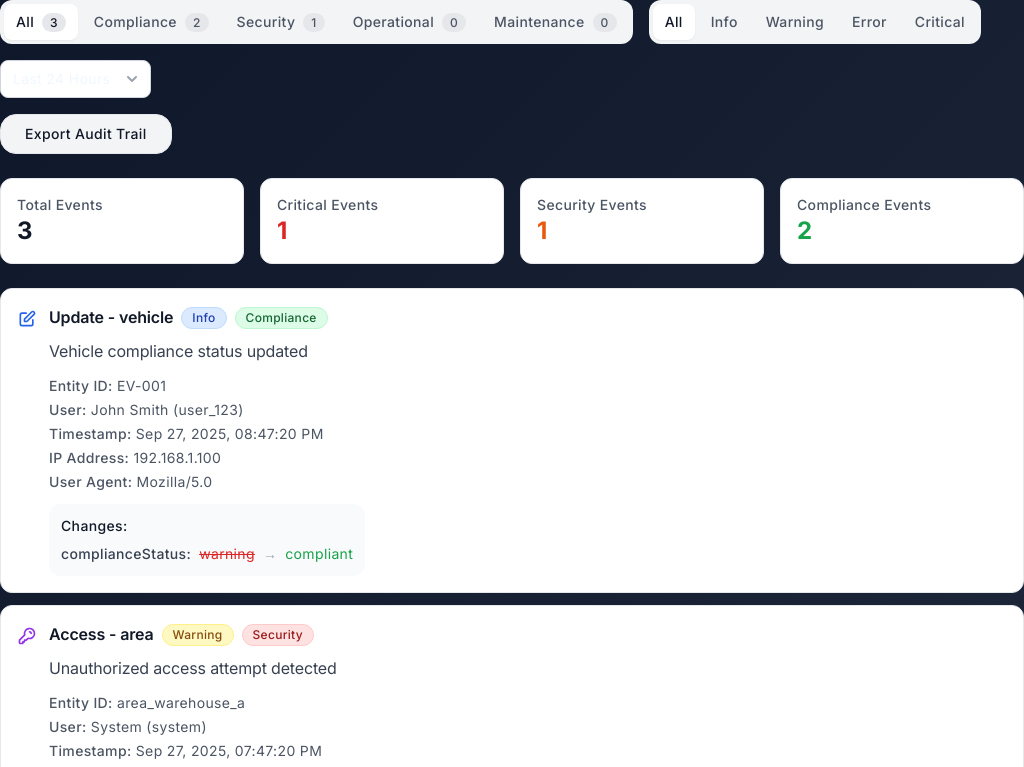
Test: AuditTrailViewer › filters audit trails by category
Note: Click on compliance filter
Click the button named "compliance 2": (151,22) left=82, top=4, right=221, bottom=40
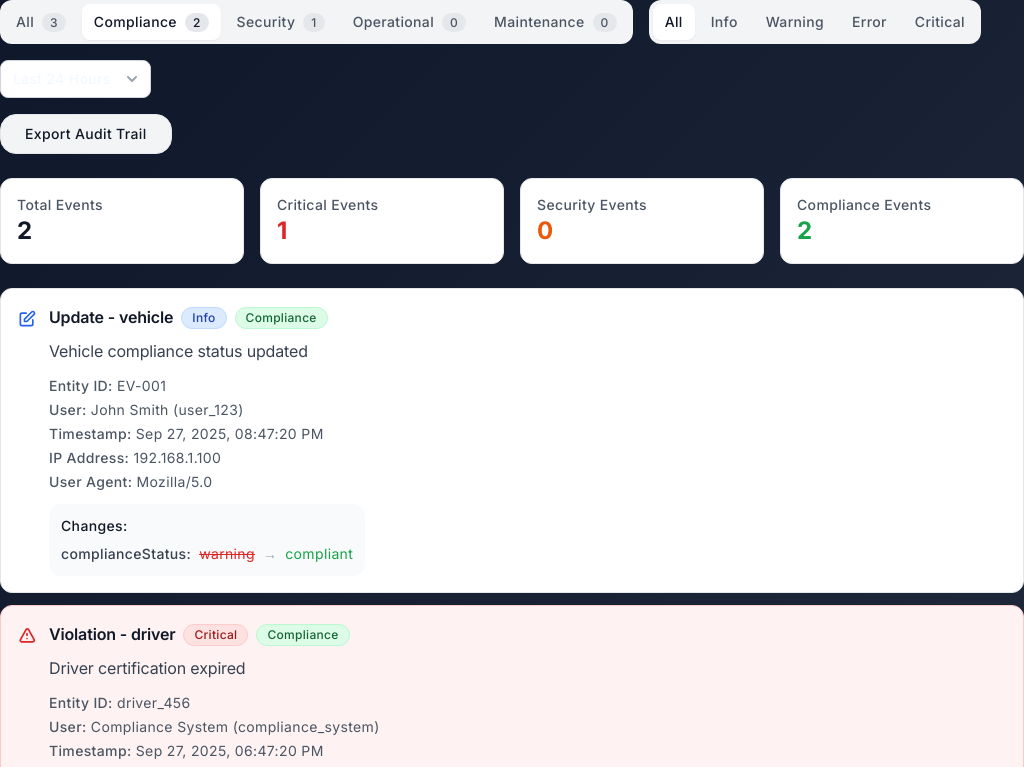
Expected: the text "Vehicle compliance status updated" is shown, left=49, top=341, right=308, bottom=361
Now the text "Unauthorized access attempt detected" is gone
